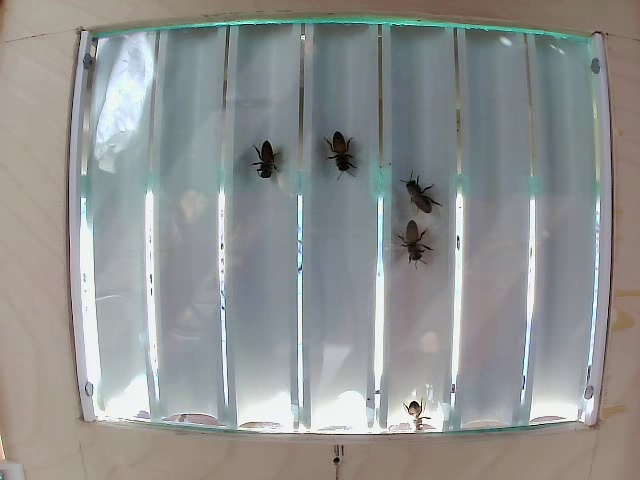bee: (314, 123, 365, 178), (247, 133, 293, 182), (399, 221, 442, 272), (400, 171, 435, 213)
